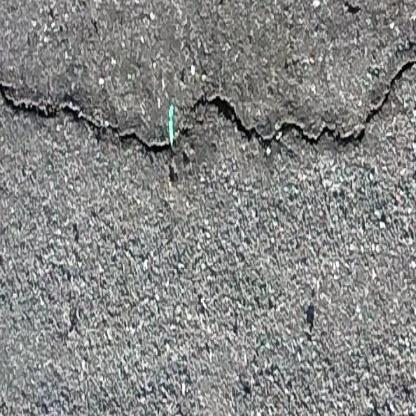Cracks: (0, 64, 416, 184), (294, 29, 416, 171)
